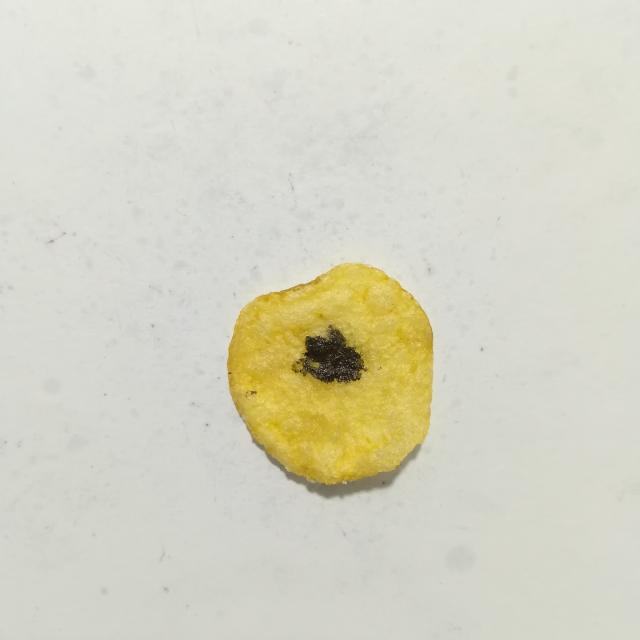chip: (227, 263, 433, 484)
damaged: (292, 325, 365, 383), (248, 391, 257, 394)
